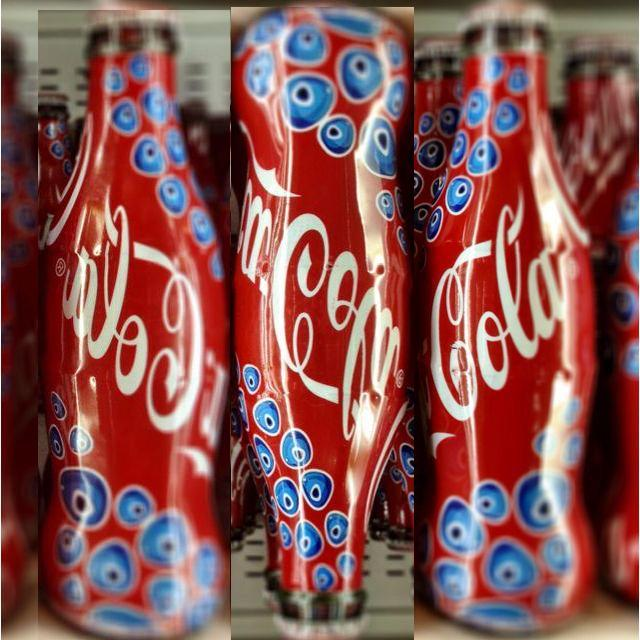coca-cola: (38, 10, 230, 640), (416, 10, 601, 640), (231, 7, 414, 640)
